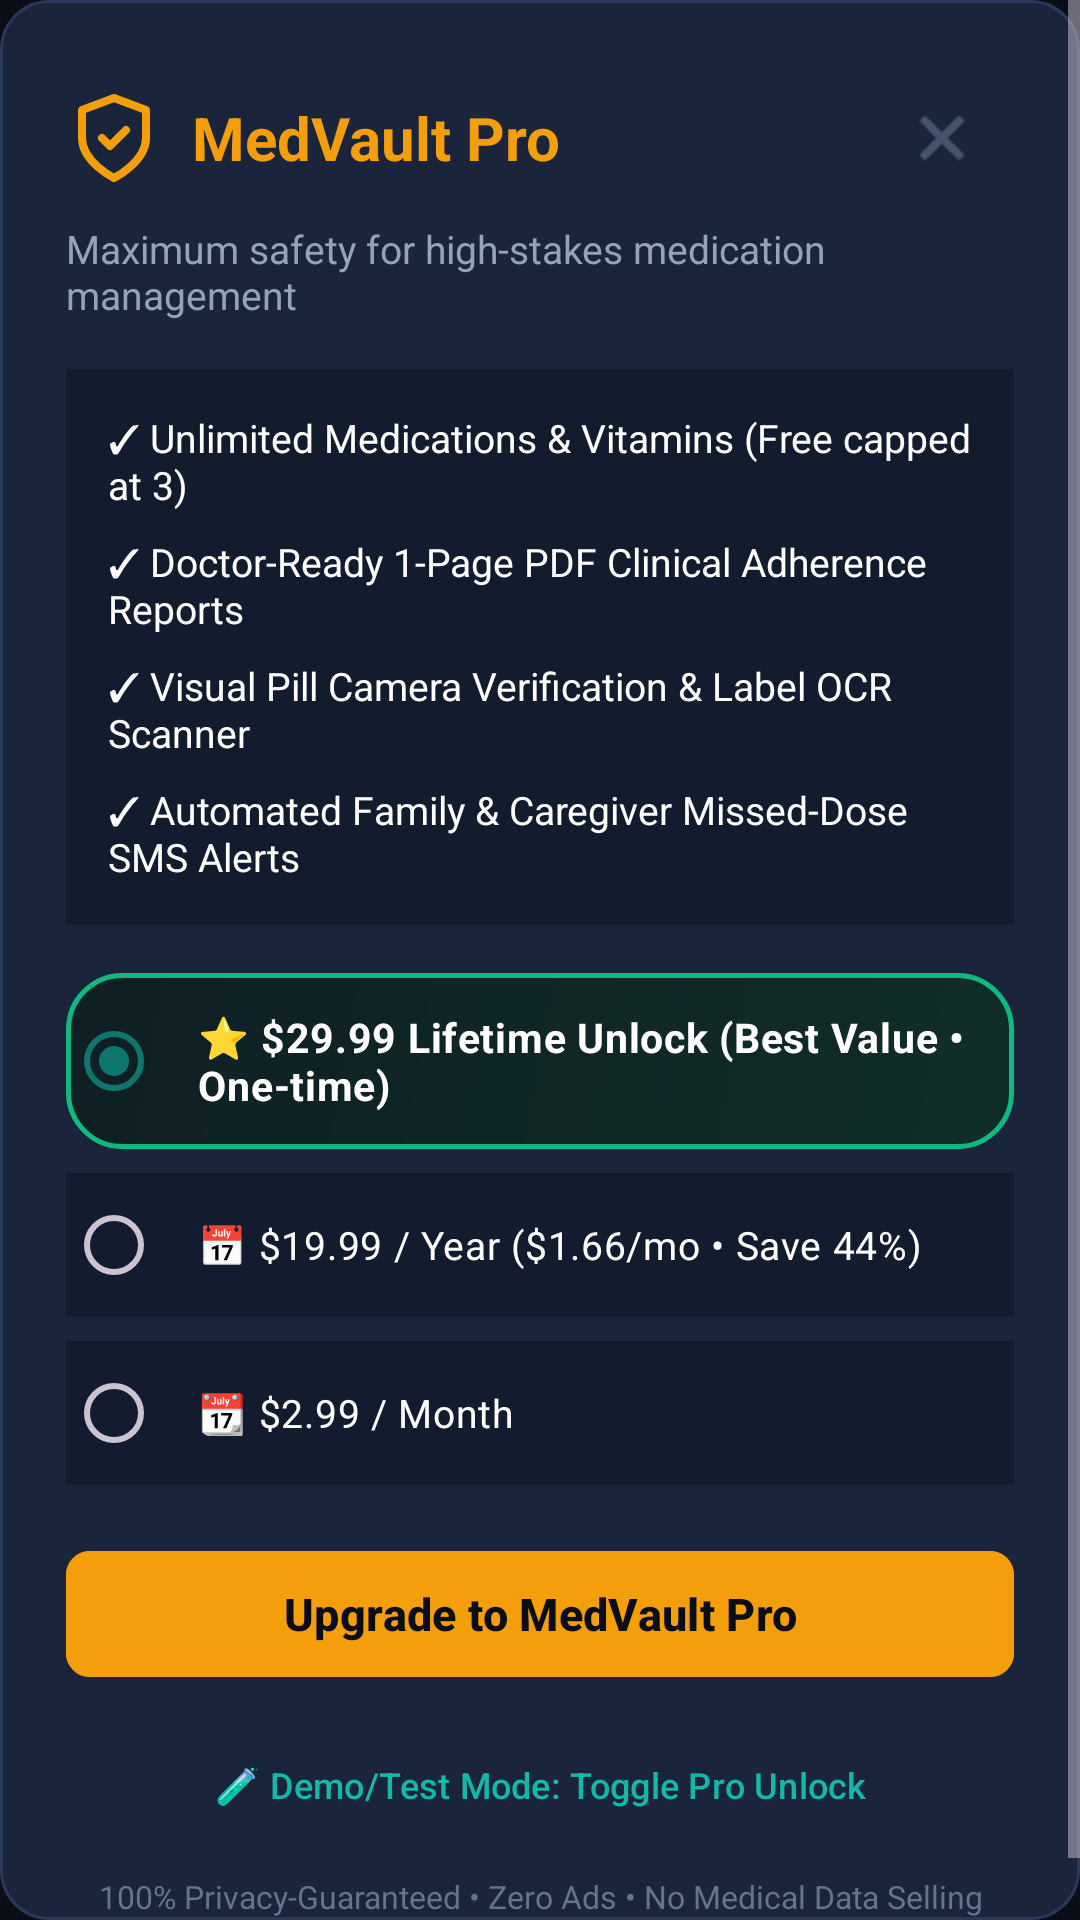

Named icons in this screenshot (1080*1920) and their bounding boxes, (x1, y1, x2, y2):
Close Pro Dialog: (920, 116, 964, 160)
shield check: (78, 94, 150, 182)
